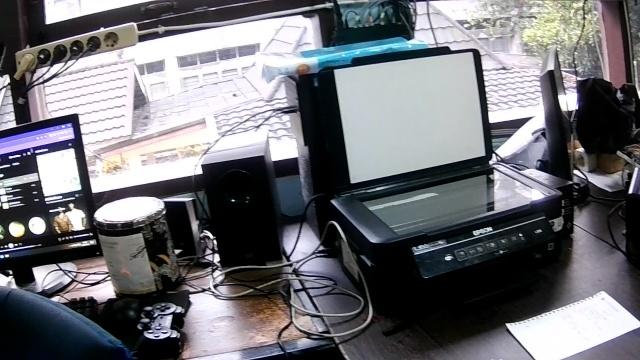AIO PC-Monitor-TV: (0, 112, 103, 272)
Printer: (318, 46, 574, 311)
